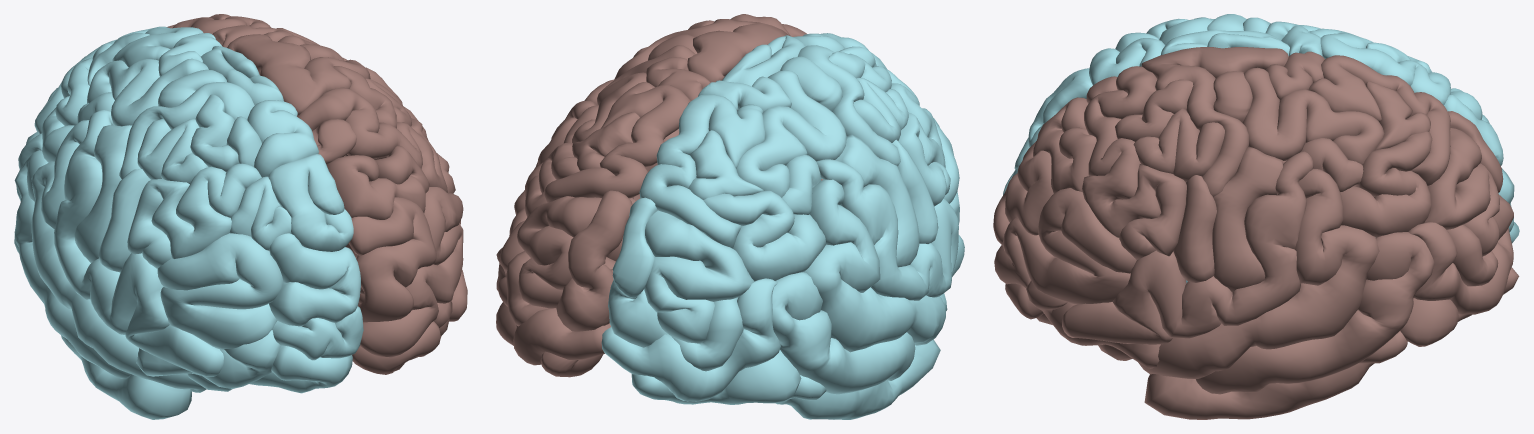
Rendered from BRAIN.fbx.
3 renders of one model, left to right at view 1: azimuth 30°, elevation 25°; view 2: azimuth 150°, elevation 25°; view 3: azimuth 270°, elevation 25°, orthographic. The views are drawn at different scales.
Parts seen in each view (by area): view 1: BRAIN; view 2: BRAIN; view 3: BRAIN.
Part boxes in pixels (bbox=[...]): BRAIN: bbox=[14, 14, 467, 419]; BRAIN: bbox=[496, 14, 964, 419]; BRAIN: bbox=[993, 14, 1519, 419].
Size of the model in its own units: 14.6 by 12.24 by 18.51.
